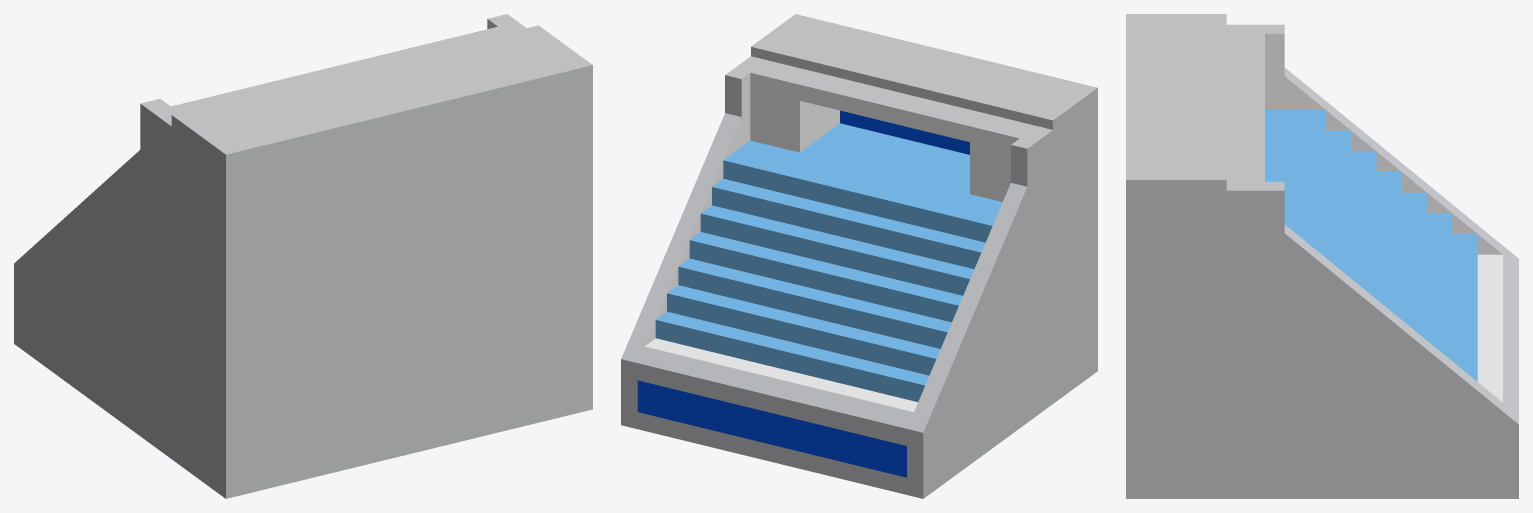
The model's file is grandStand_2.fbx.
3 renders of one model, left to right at view 1: azimuth 30°, elevation 25°; view 2: azimuth 150°, elevation 25°; view 3: azimuth 270°, elevation 25°, orthographic. The views are drawn at different scales.
Parts seen in each view (by area): view 1: grandStand_2; view 2: grandStand_2; view 3: grandStand_2.
Part boxes in pixels (left/top/right/bottom): grandStand_2: left=14, top=14, right=592, bottom=498; grandStand_2: left=621, top=14, right=1097, bottom=498; grandStand_2: left=1126, top=14, right=1518, bottom=498.
Bounding box in the file's own units: 1000 × 1000 × 896.
